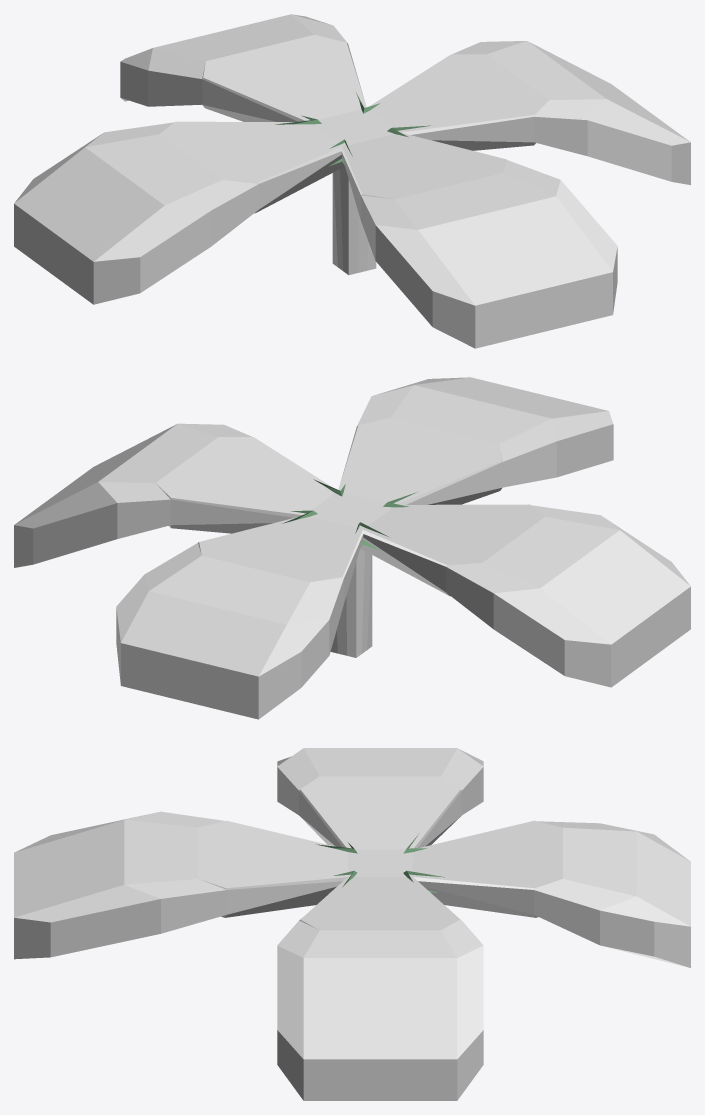
The model's file is resource__plant__green-bush__short.fbx.
3 renders of one model, top to bottom at view 1: azimuth 30°, elevation 25°; view 2: azimuth 150°, elevation 25°; view 3: azimuth 270°, elevation 25°, orthographic. The views are drawn at different scales.
Visible parts, largest first — view 1: Green_Bush; view 2: Green_Bush; view 3: Green_Bush.
Part boxes in pixels (x1,y1,x2,y2): Green_Bush: (14,14,690,348); Green_Bush: (14,377,690,719); Green_Bush: (14,748,690,1100).
Bounding box in the file's own units: 124 × 29.85 × 126.
